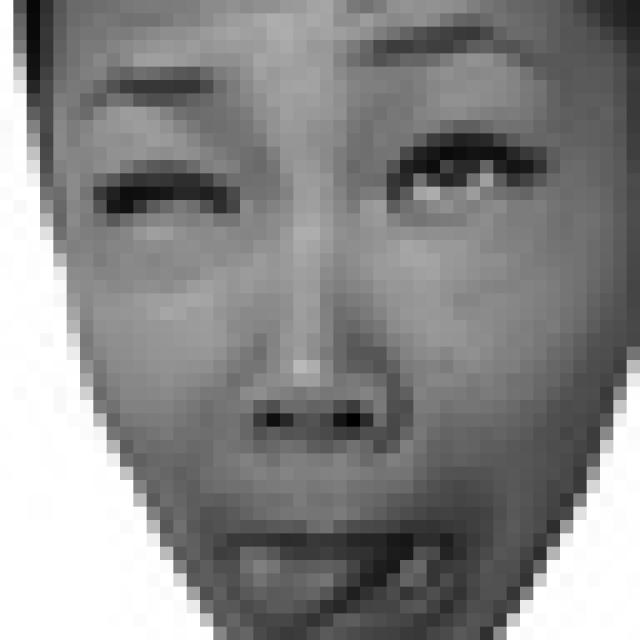disgust: (79, 19, 560, 640)
